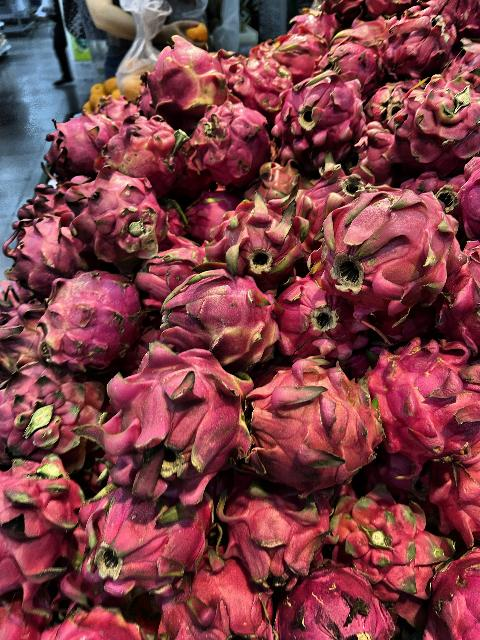buah-naga-belum-matang: (249, 362, 381, 490), (156, 273, 280, 369), (145, 38, 223, 114)
buah-naga-matang: (112, 346, 246, 508), (77, 476, 209, 600), (320, 188, 452, 308), (364, 339, 480, 467), (331, 486, 441, 614), (217, 473, 334, 585), (0, 356, 104, 470), (158, 556, 276, 640), (35, 274, 140, 368), (0, 458, 74, 590), (269, 568, 395, 640), (383, 75, 479, 165), (267, 74, 363, 162), (59, 176, 164, 254), (92, 114, 190, 194), (210, 195, 298, 279), (185, 100, 273, 180), (0, 219, 88, 295), (385, 11, 453, 74), (137, 242, 213, 296), (38, 115, 100, 177), (224, 49, 282, 113), (318, 42, 382, 92), (270, 38, 320, 68)
